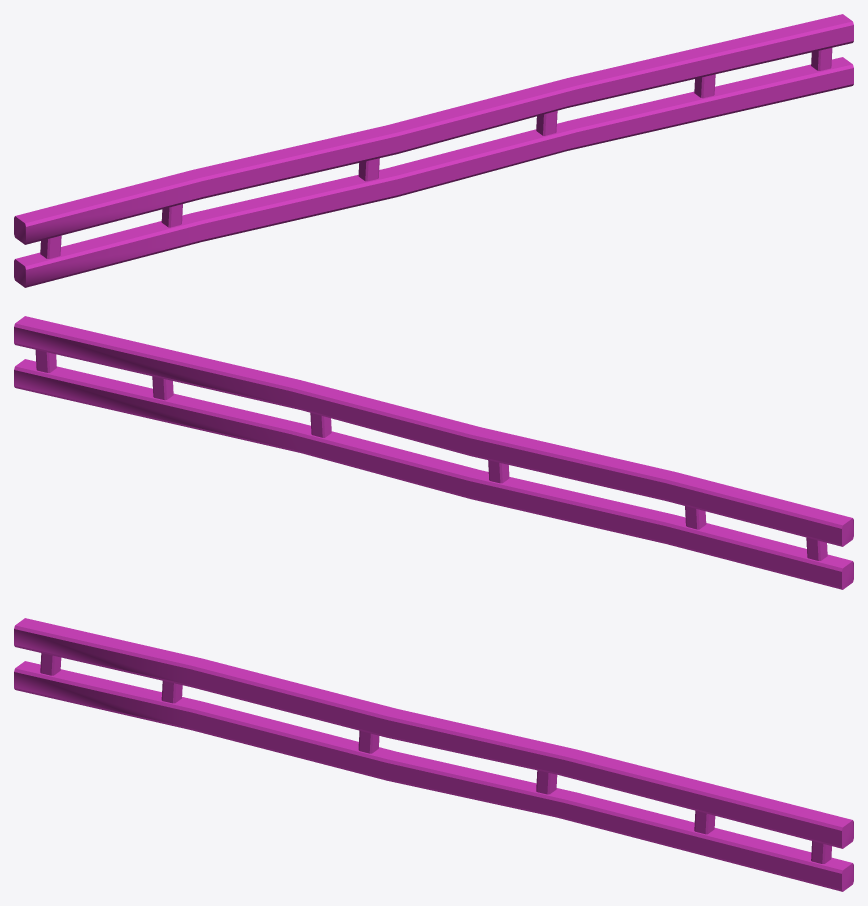
File: Cumbrera.fbx
3 renders of one model, top to bottom at view 1: azimuth 30°, elevation 25°; view 2: azimuth 150°, elevation 25°; view 3: azimuth 330°, elevation 25°, orthographic.
Parts seen in each view (by area): view 1: Box105; view 2: Box105; view 3: Box105.
Part boxes in pixels (x1,y1,x2,y2): Box105: (14,14,853,287); Box105: (14,316,853,589); Box105: (14,618,853,891).
Size of the model in its own units: 482 by 12.23 by 37.65.
